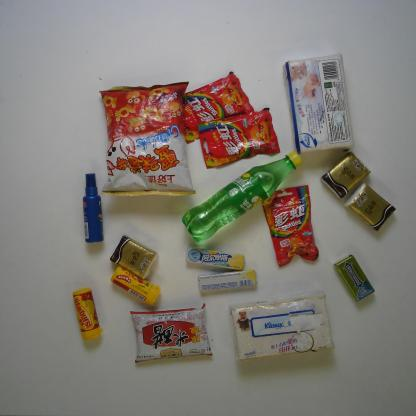Candy: (178, 70, 255, 145), (196, 107, 281, 168), (262, 185, 318, 268), (110, 266, 161, 306), (72, 288, 102, 340), (185, 246, 246, 270), (198, 269, 258, 291)
Drink: (181, 150, 303, 242)
Gum: (333, 254, 375, 303)
Personal Hygiene: (82, 173, 104, 243)
Puffed Food: (99, 80, 196, 198)
Seasoner: (129, 303, 213, 363)
Tissue: (229, 290, 335, 362), (283, 53, 354, 155), (344, 182, 396, 232), (319, 152, 371, 200), (110, 234, 160, 280)
